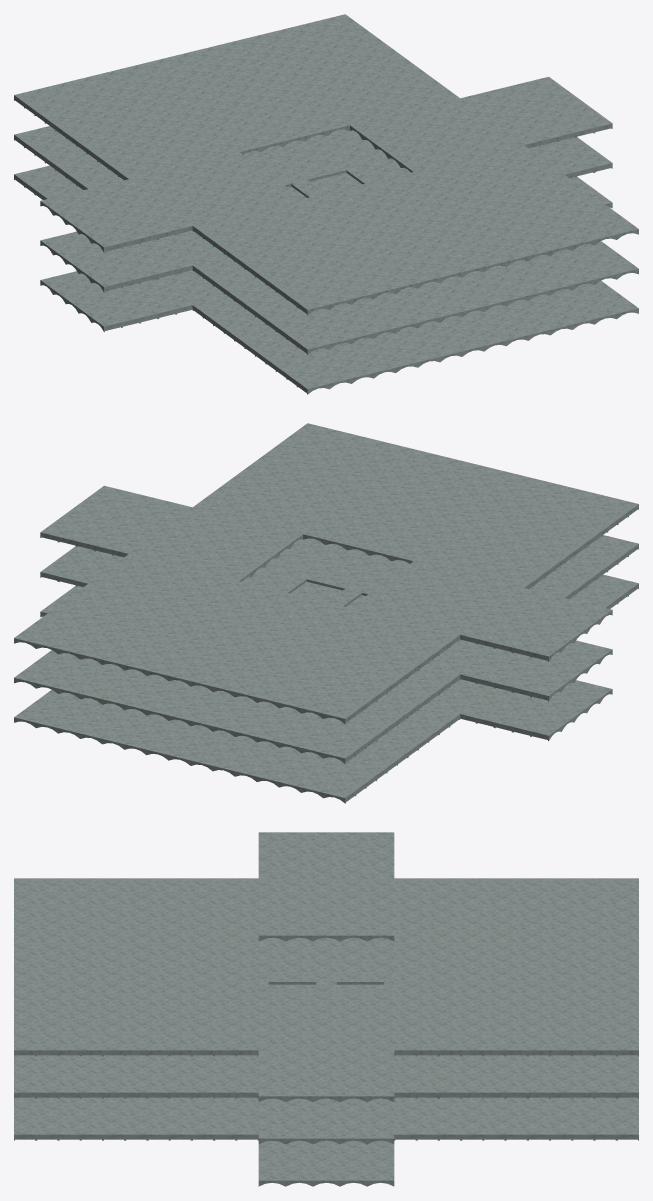
Rendered from Level_Roof_Floor.FBX.
3 views of the same model, one above another, from view 1: azimuth 30°, elevation 25°; view 2: azimuth 150°, elevation 25°; view 3: azimuth 270°, elevation 25° (orthographic). The views are drawn at different scales.
Visible parts, largest first — view 1: Map_Roof_Floor_Basic; view 2: Map_Roof_Floor_Basic; view 3: Map_Roof_Floor_Basic.
Part boxes in pixels (left/top/right/bottom): Map_Roof_Floor_Basic: left=14, top=14, right=638, bottom=394; Map_Roof_Floor_Basic: left=14, top=423, right=638, bottom=803; Map_Roof_Floor_Basic: left=14, top=832, right=638, bottom=1186.
Size of the model in its own units: 6330 by 1009 by 6330.
